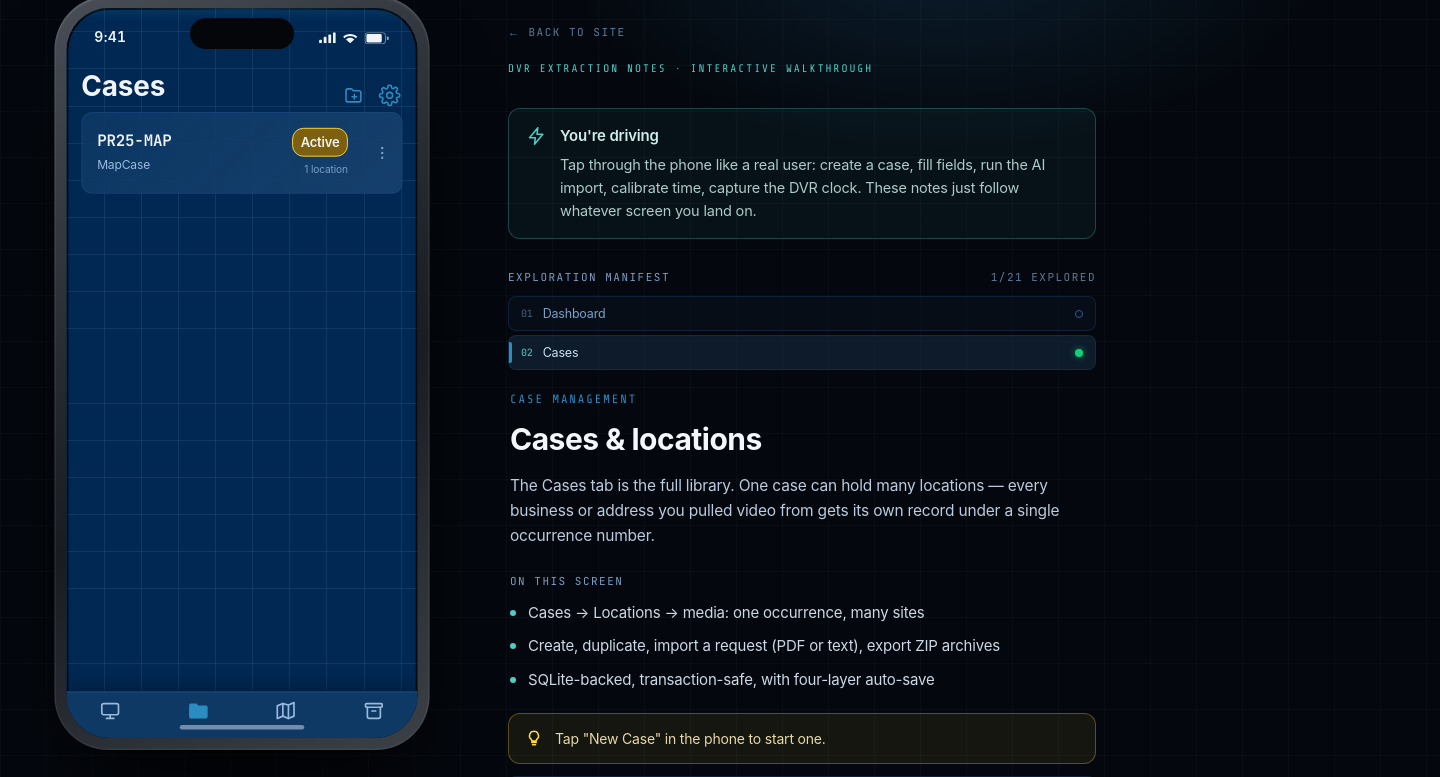
Test: DemoExperience — Export Map › counts the un-plotted locations in the demo’s normal mixed state (review R-1)
Click the button named "Map".
click(286, 712)  # box [242, 698, 330, 727]
(page scrolled)
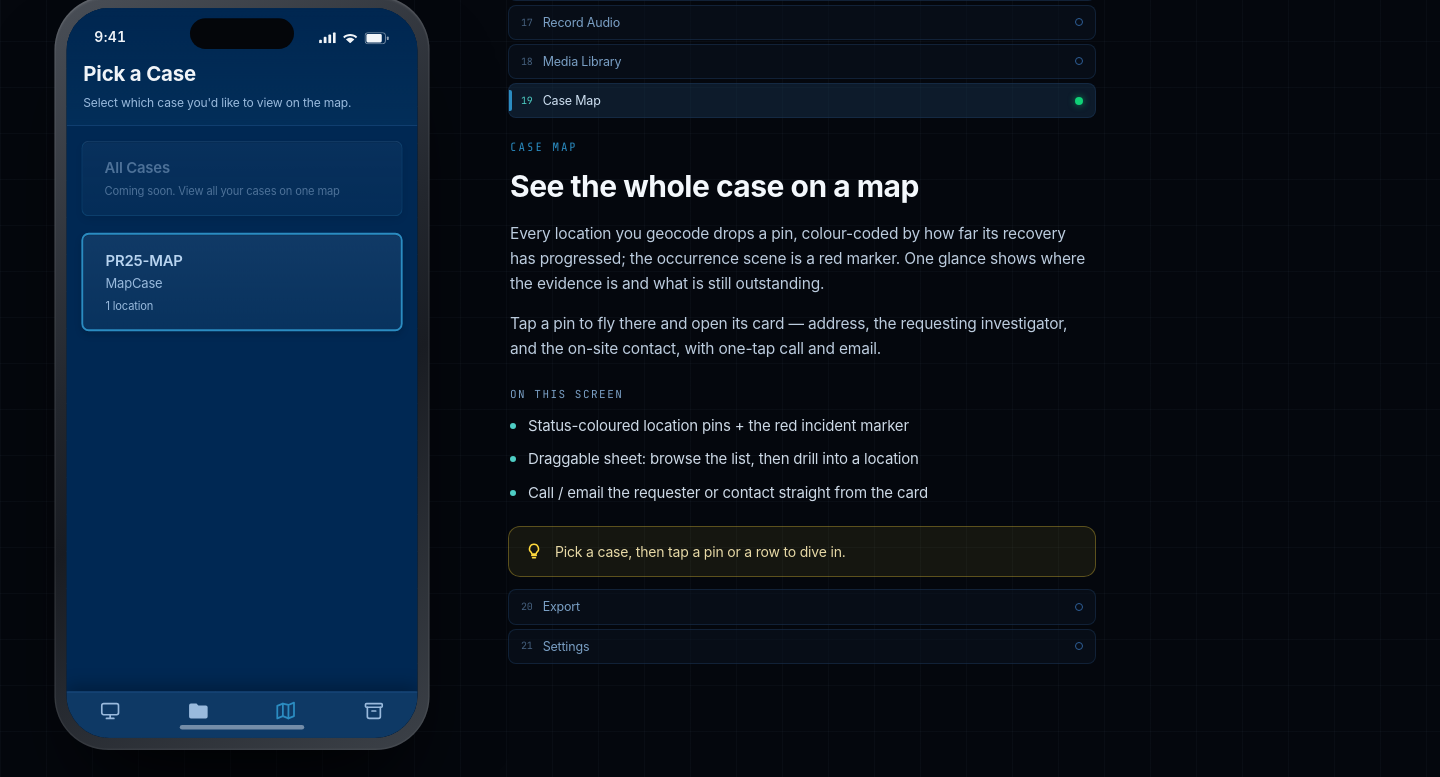
Click the text "MapCase".
click(134, 283)  # box [106, 275, 162, 291]
(page scrolled)
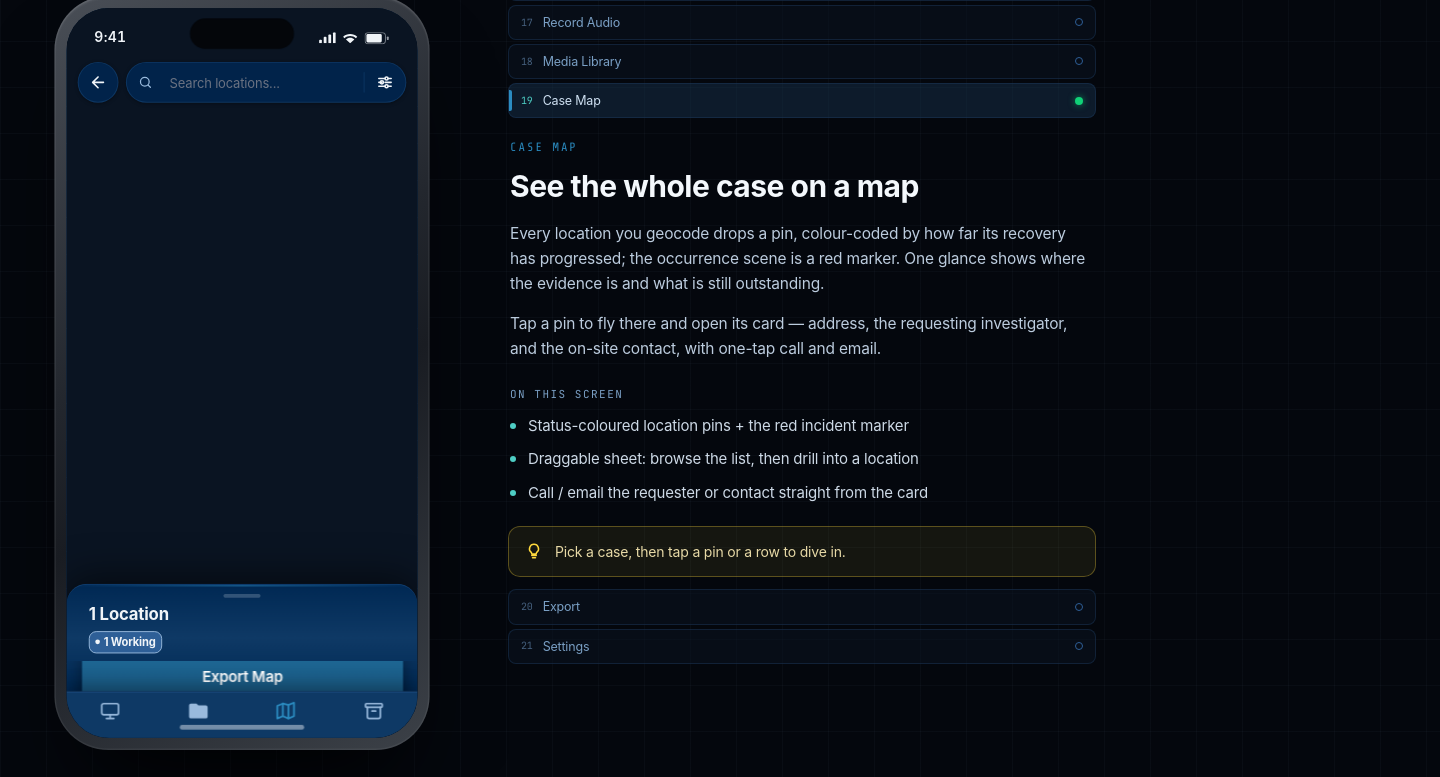
Click the button with test id "export-map-button".
click(242, 676)  # box [81, 649, 403, 704]
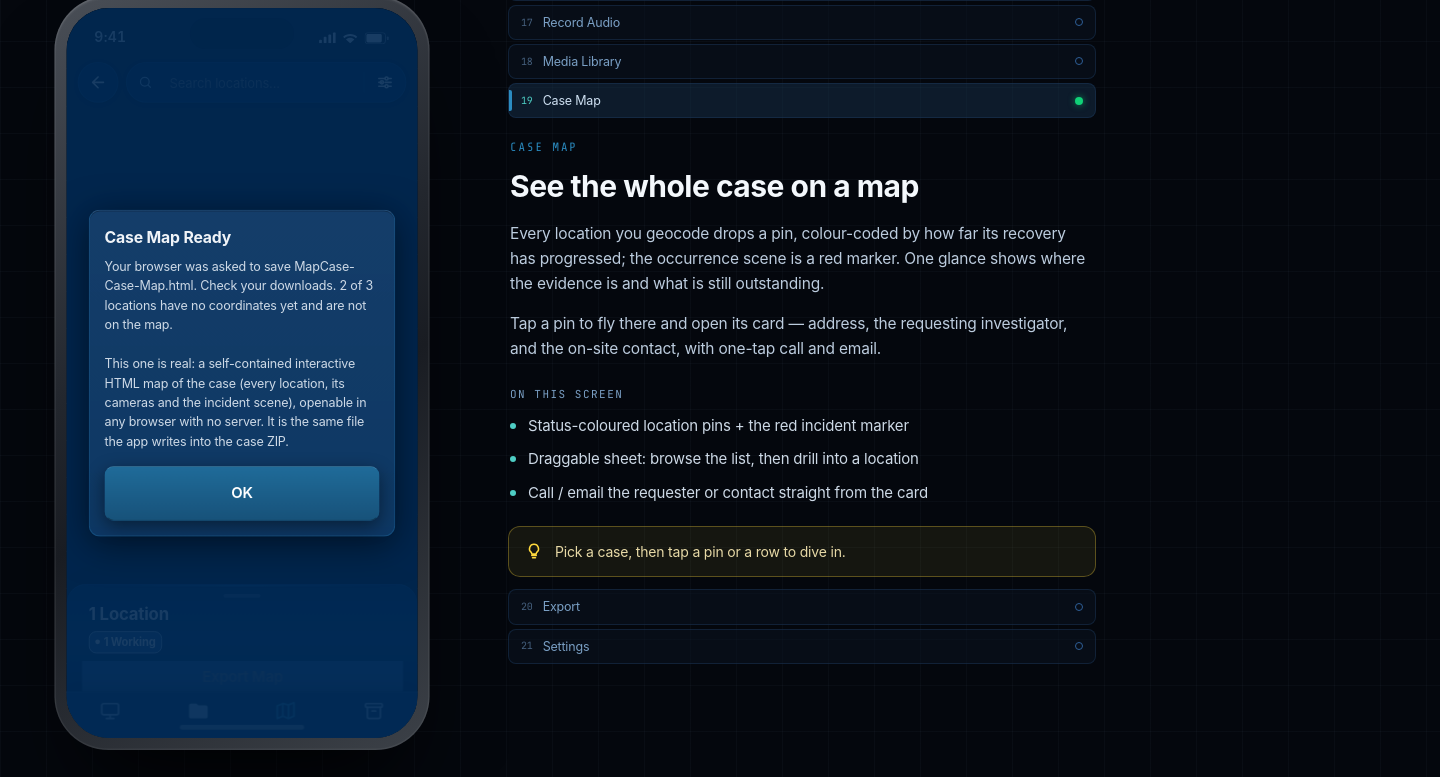
Check: the dialog shows "2 of 3 locations have no coordinates yet and are not on the map.", box [105, 259, 373, 448]
